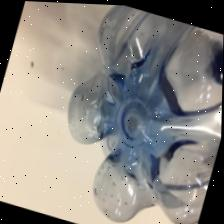plastic: (39, 2, 224, 224)
